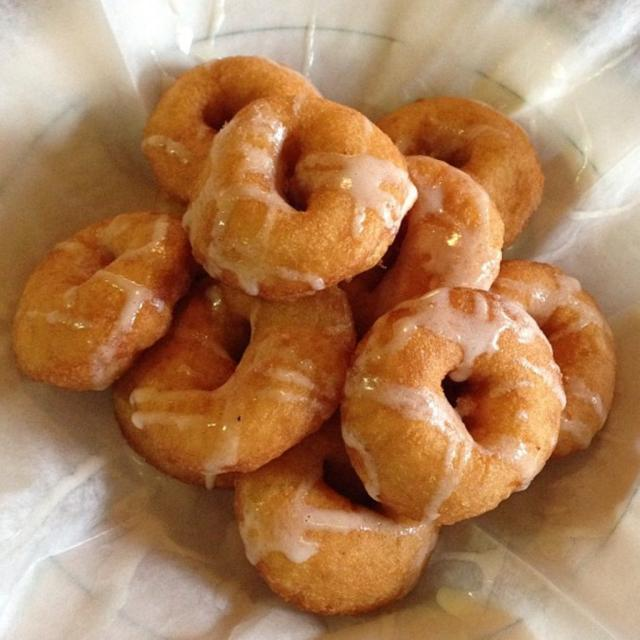Bagel: (338, 291, 564, 524), (109, 282, 358, 488), (185, 93, 415, 303), (237, 423, 440, 619), (13, 212, 195, 391), (142, 52, 323, 201), (377, 96, 547, 253), (358, 154, 502, 339), (494, 258, 618, 456)
